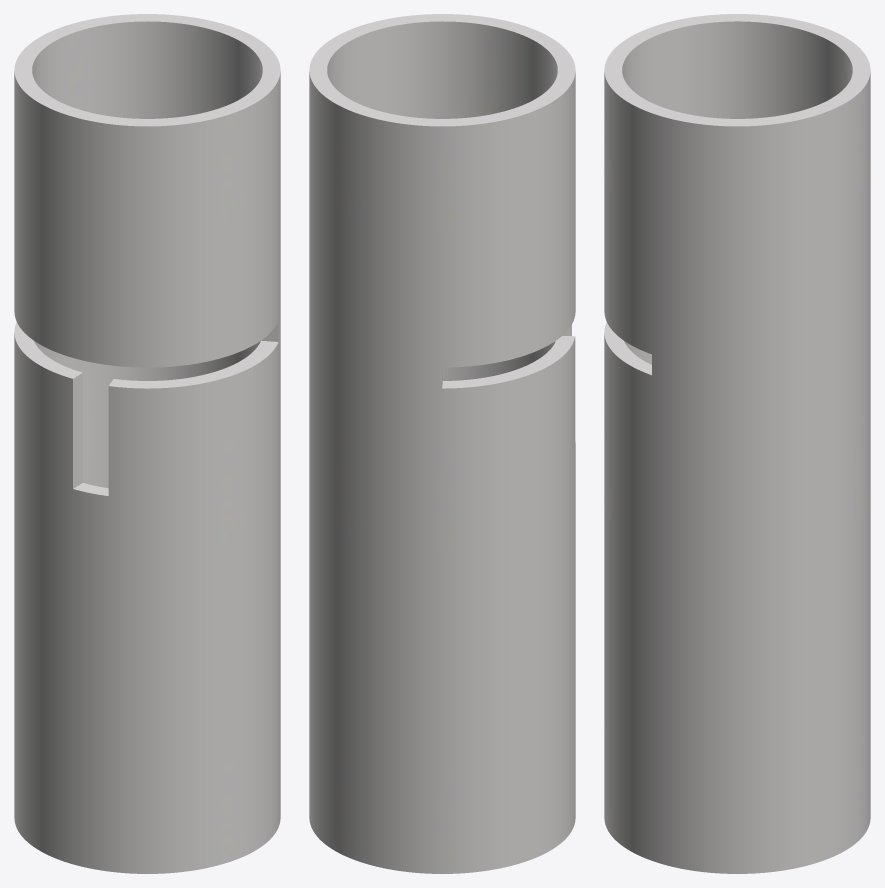
Rendered from 03_dama_bila.glb.
3 views of the same model, side by side, from view 1: azimuth 30°, elevation 25°; view 2: azimuth 150°, elevation 25°; view 3: azimuth 270°, elevation 25° (orthographic).
Parts seen in each view (by area): view 1: 03_dama_bila; view 2: 03_dama_bila; view 3: 03_dama_bila.
Part boxes in pixels (<box>): 03_dama_bila: <box>14,14,280,873</box>; 03_dama_bila: <box>309,14,575,873</box>; 03_dama_bila: <box>604,14,870,873</box>.
Size of the model in its own units: 0.03 by 0.093 by 0.03.
1 material, 1 textured.
